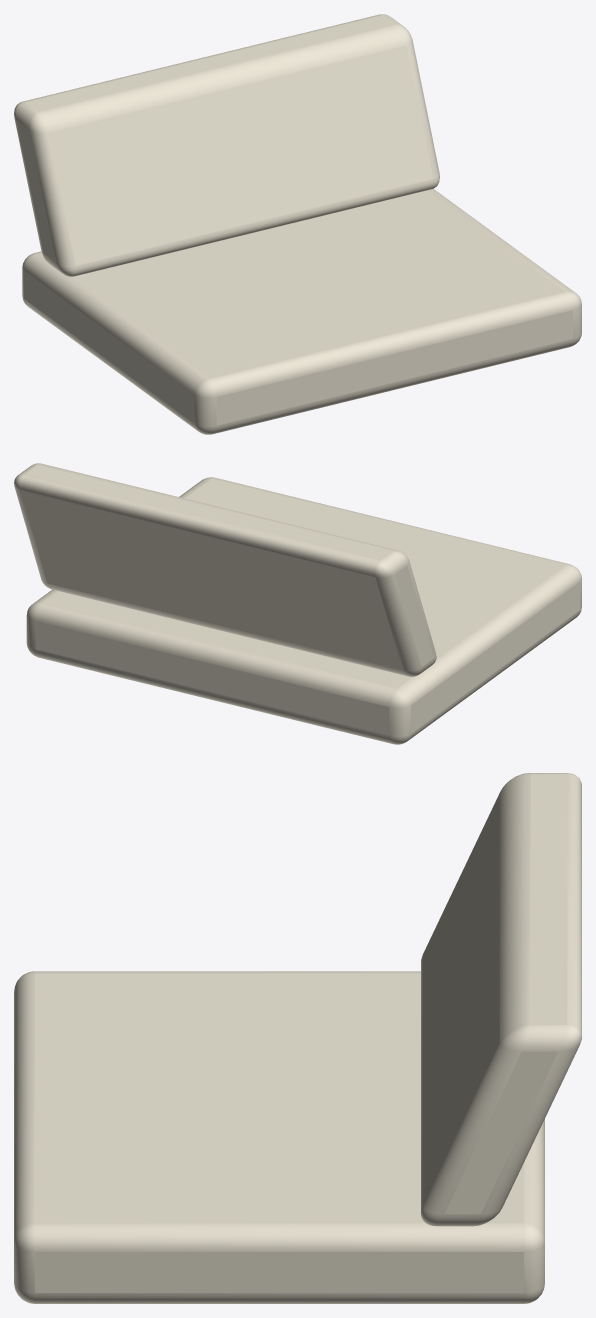
Rendered from chair_cushions.dae.
3 renders of one model, top to bottom at view 1: azimuth 30°, elevation 25°; view 2: azimuth 150°, elevation 25°; view 3: azimuth 270°, elevation 25°, orthographic. The views are drawn at different scales.
Parts seen in each view (by area): view 1: group_11, group_13; view 2: group_11, group_13; view 3: group_11, group_13.
Part boxes in pixels (x1,y1,x2,y2): group_11: (22,189,581,434); group_13: (14,14,439,276); group_11: (26,477,581,744); group_13: (14,463,436,676); group_11: (14,971,544,1303); group_13: (421,773,581,1226).
Size of the model in its own units: 0.9299 by 0.8281 by 0.4481.
